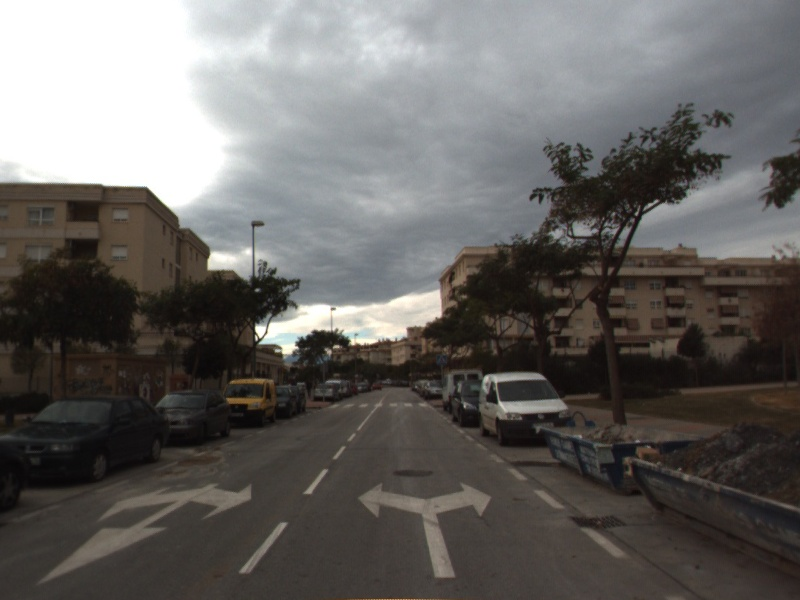LEFT_RIGHT: (355, 478, 495, 581)
